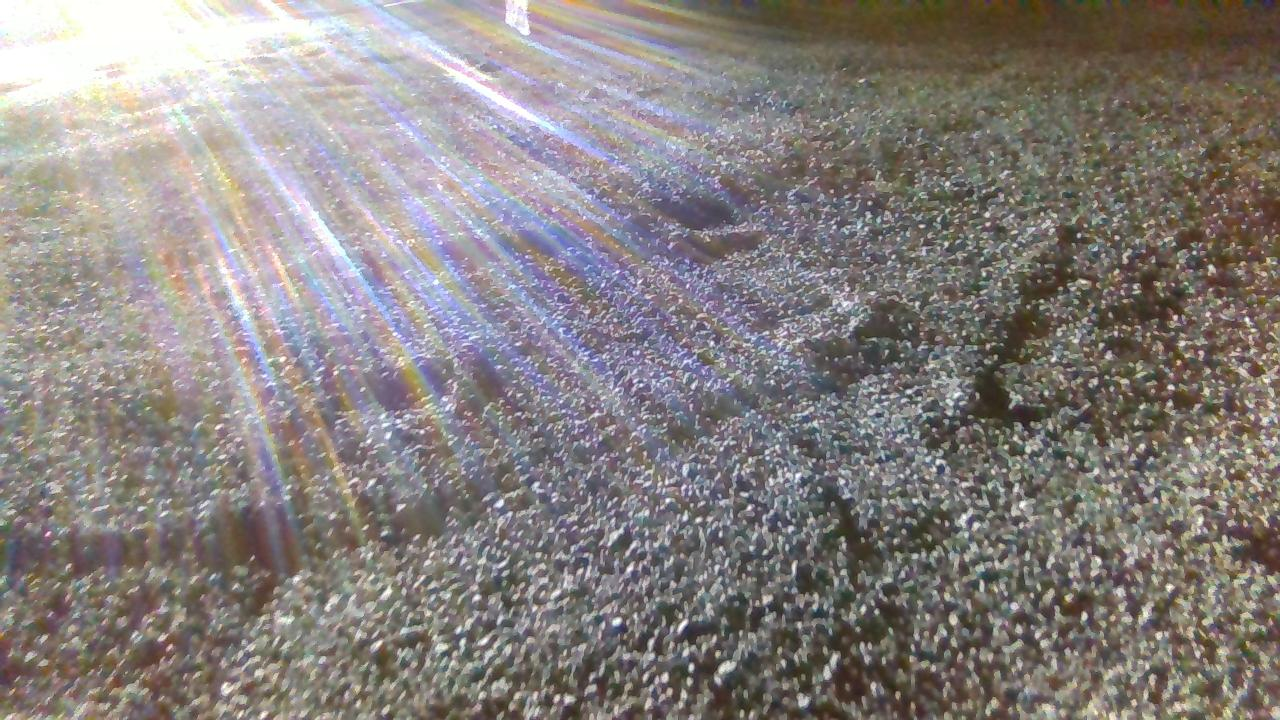rock: (505, 0, 530, 33)
